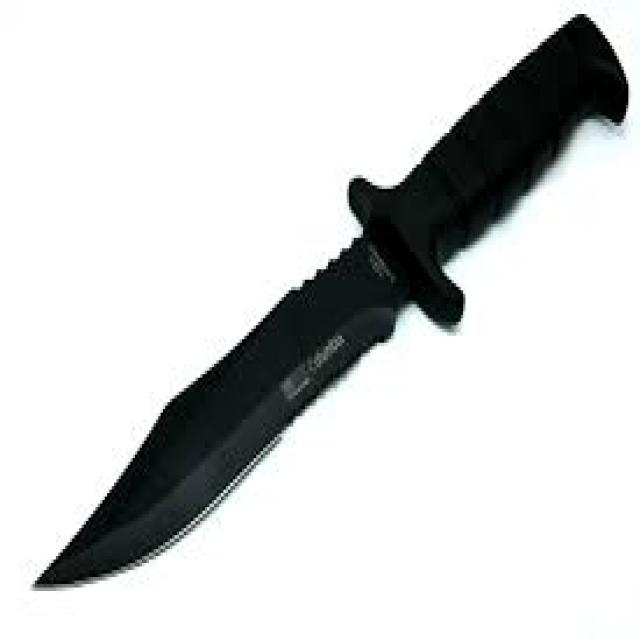knife: (30, 8, 635, 598)
